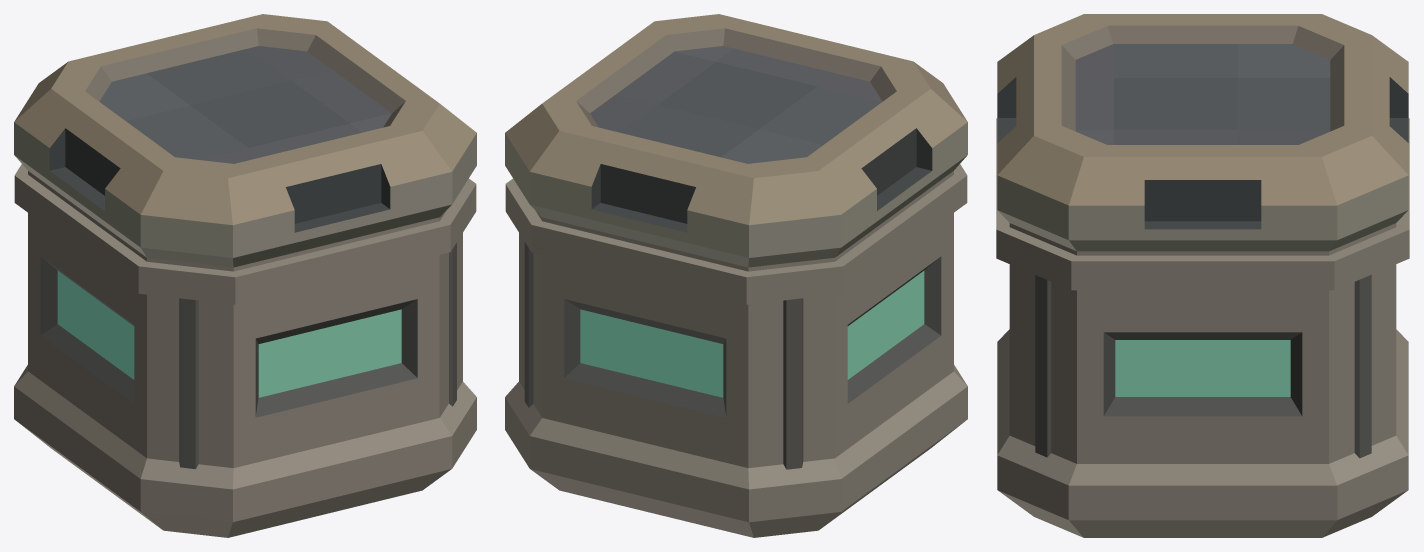
Rendered from entity109416.glb.
The picture shows the model from 3 angles, left to right: view 1: azimuth 30°, elevation 25°; view 2: azimuth 150°, elevation 25°; view 3: azimuth 270°, elevation 25°; orthographic projection. The views are drawn at different scales.
Visible parts, largest first — view 1: node_SM_Prop_Crate_01 (10), node_SM_Prop_Crate_01_Lid_01; view 2: node_SM_Prop_Crate_01 (10), node_SM_Prop_Crate_01_Lid_01; view 3: node_SM_Prop_Crate_01 (10), node_SM_Prop_Crate_01_Lid_01.
Boxes of the visible parts, x1,y1,x2,y2 form: node_SM_Prop_Crate_01 (10): [14, 164, 476, 537]; node_SM_Prop_Crate_01_Lid_01: [14, 14, 476, 267]; node_SM_Prop_Crate_01 (10): [505, 164, 967, 537]; node_SM_Prop_Crate_01_Lid_01: [505, 14, 967, 267]; node_SM_Prop_Crate_01 (10): [996, 118, 1409, 537]; node_SM_Prop_Crate_01_Lid_01: [997, 14, 1408, 251].
Size of the model in its own units: 1.12 by 1.14 by 1.12.
2 materials, 2 textured.
